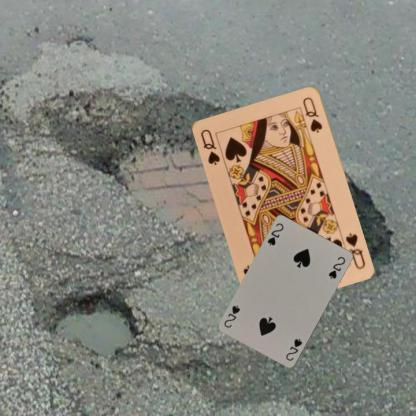2s: (283, 336, 303, 362), (264, 221, 284, 247)
Qs: (343, 229, 366, 271), (198, 126, 220, 166)
